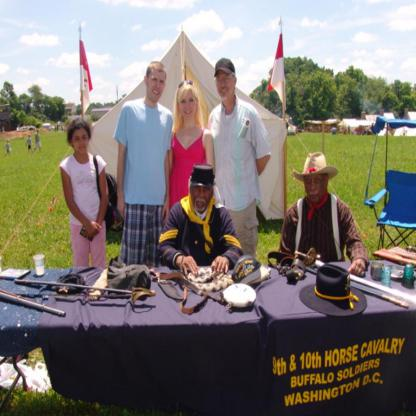face: (304, 171, 327, 205), (192, 179, 214, 211), (149, 68, 167, 103), (216, 69, 236, 99), (179, 89, 197, 121), (73, 129, 89, 155)
